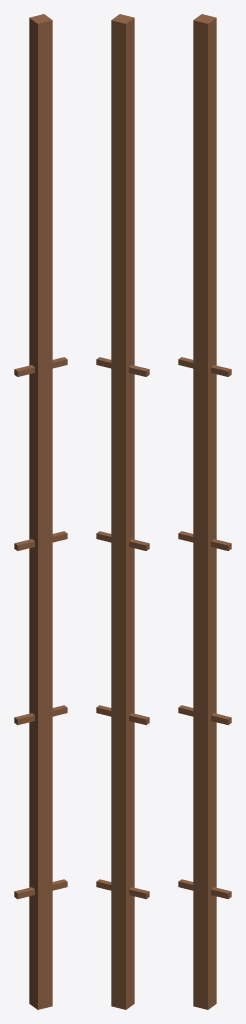
Rendered from summit-mast-assemblies.glb.
3 renders of one model, left to right at view 1: azimuth 30°, elevation 25°; view 2: azimuth 150°, elevation 25°; view 3: azimuth 330°, elevation 25°, orthographic.
Visible parts, largest first — view 1: summit-crown-m072-c002.001, summit-crown-m072-c001.001, summit-crown-m072-c000.001, summit-crown-m076-c000.001, summit-crown-m075-c000.001, summit-crown-m073-c000.001, summit-crown-m074-c000.001; view 2: summit-crown-m072-c002.001, summit-crown-m072-c001.001, summit-crown-m072-c000.001, summit-crown-m076-c000.001, summit-crown-m075-c000.001, summit-crown-m073-c000.001, summit-crown-m074-c000.001; view 3: summit-crown-m072-c002.001, summit-crown-m072-c001.001, summit-crown-m072-c000.001, summit-crown-m076-c000.001, summit-crown-m075-c000.001, summit-crown-m073-c000.001, summit-crown-m074-c000.001.
Part boxes in pixels (bbox=[...]): summit-crown-m072-c002.001: bbox=[29, 14, 52, 429]; summit-crown-m072-c001.001: bbox=[29, 424, 52, 835]; summit-crown-m072-c000.001: bbox=[29, 830, 52, 1009]; summit-crown-m076-c000.001: bbox=[14, 357, 67, 376]; summit-crown-m075-c000.001: bbox=[14, 531, 67, 550]; summit-crown-m073-c000.001: bbox=[14, 879, 67, 899]; summit-crown-m074-c000.001: bbox=[14, 705, 67, 725]; summit-crown-m072-c002.001: bbox=[111, 14, 134, 429]; summit-crown-m072-c001.001: bbox=[111, 424, 134, 835]; summit-crown-m072-c000.001: bbox=[111, 830, 134, 1009]; summit-crown-m076-c000.001: bbox=[96, 357, 149, 376]; summit-crown-m075-c000.001: bbox=[96, 531, 149, 550]; summit-crown-m073-c000.001: bbox=[96, 879, 149, 899]; summit-crown-m074-c000.001: bbox=[96, 705, 149, 725]; summit-crown-m072-c002.001: bbox=[193, 14, 216, 429]; summit-crown-m072-c001.001: bbox=[193, 424, 216, 835]; summit-crown-m072-c000.001: bbox=[193, 830, 216, 1009]; summit-crown-m076-c000.001: bbox=[178, 357, 231, 376]; summit-crown-m075-c000.001: bbox=[178, 531, 231, 550]; summit-crown-m073-c000.001: bbox=[178, 879, 231, 899]; summit-crown-m074-c000.001: bbox=[178, 705, 231, 725].
Bounding box in the file's own units: 0.6 × 11.33 × 0.18.
